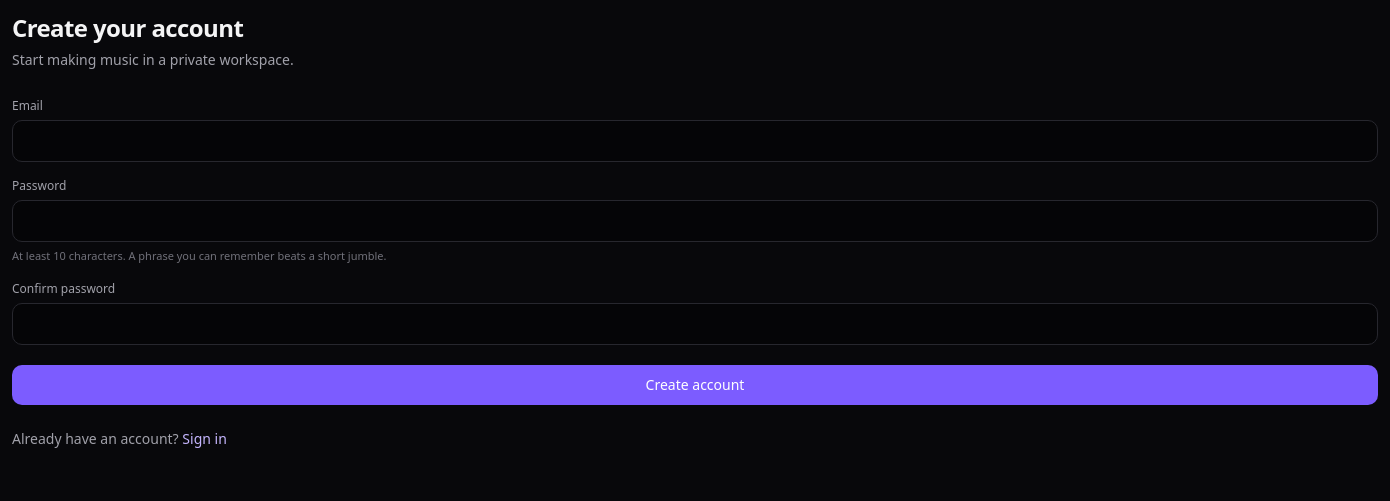
Test case: signup › catches a mistyped confirmation before the server does
Type "new@example.com" into the field labelled "Email" at coordinates (695, 141), box [12,120,1378,162]
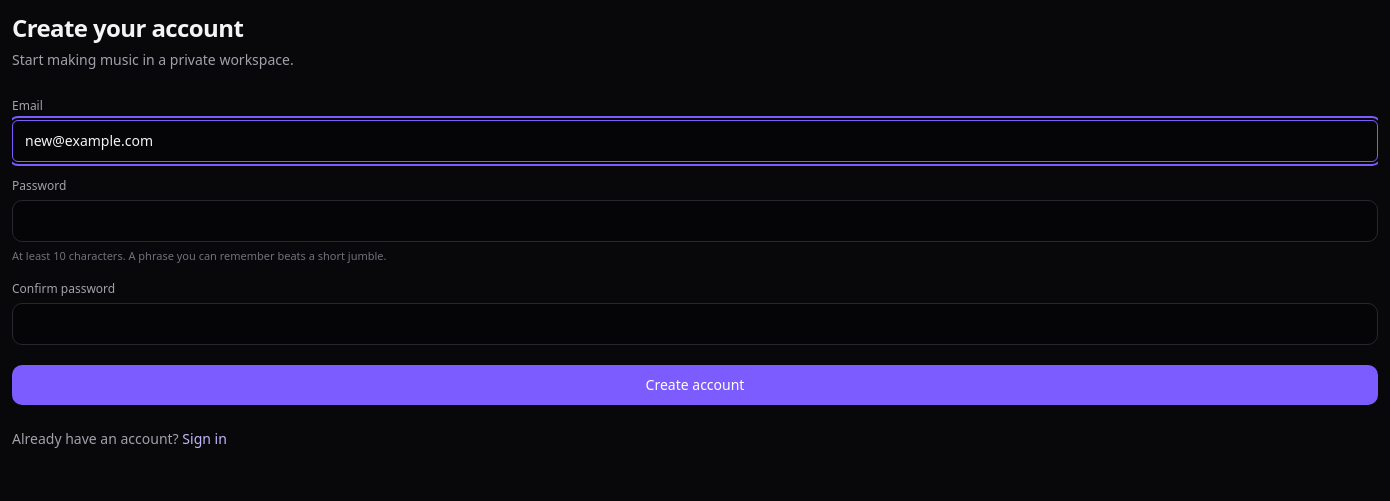
Type "correct horse battery" into the password field labelled "Password" at coordinates (695, 221), box [12,200,1378,242]
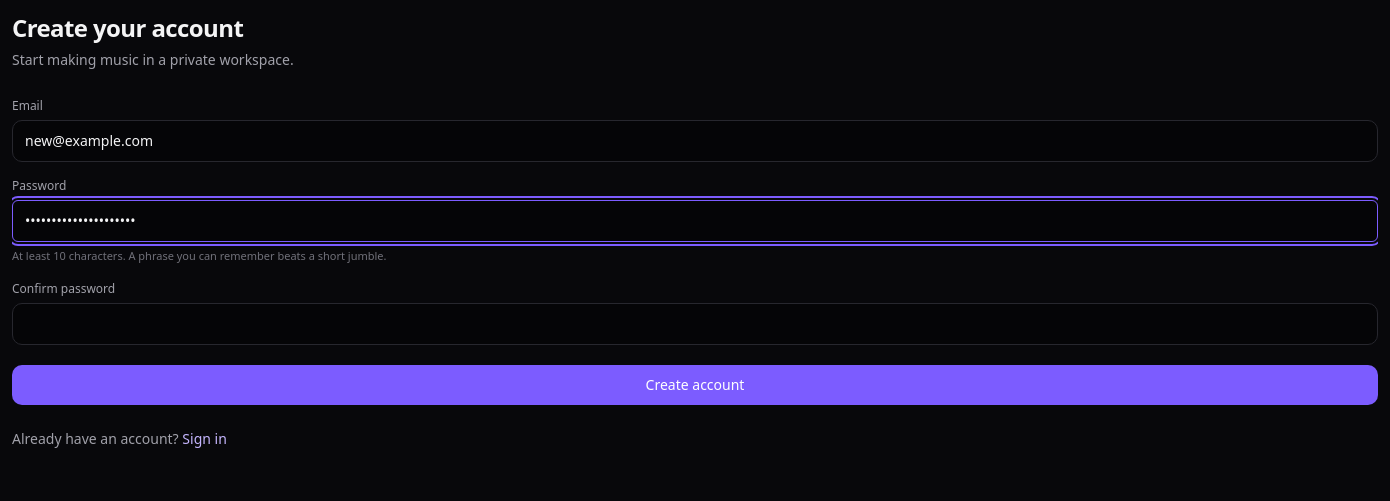
Type "correct horse batteries" into the password field labelled "Confirm password" at coordinates (695, 324), box [12,302,1378,344]
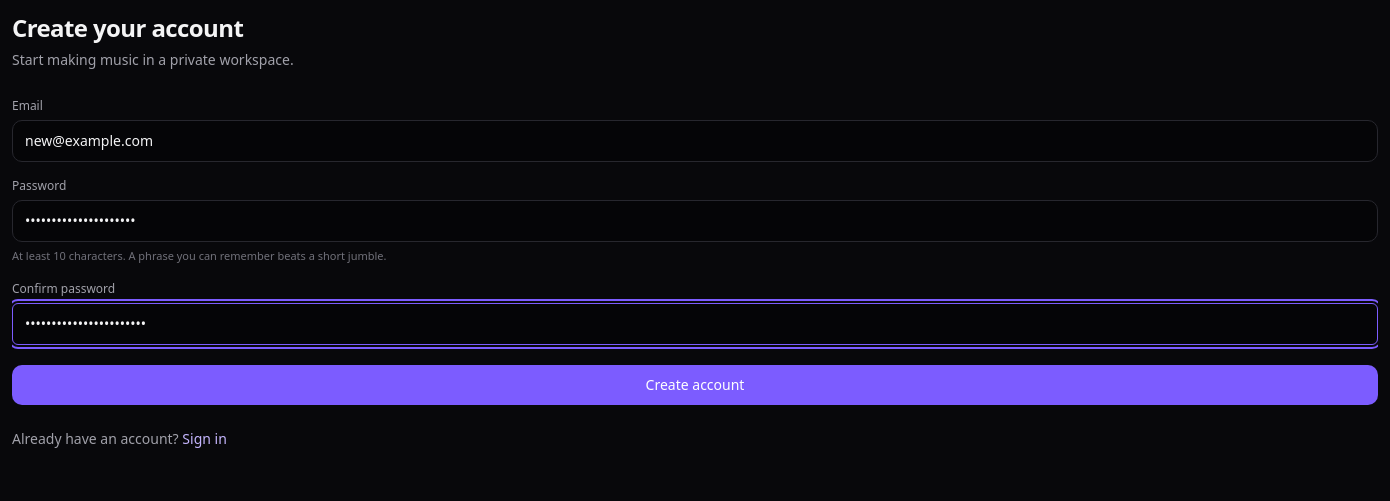
Click the button "Create account" at coordinates (695, 384), box [12,364,1378,404]
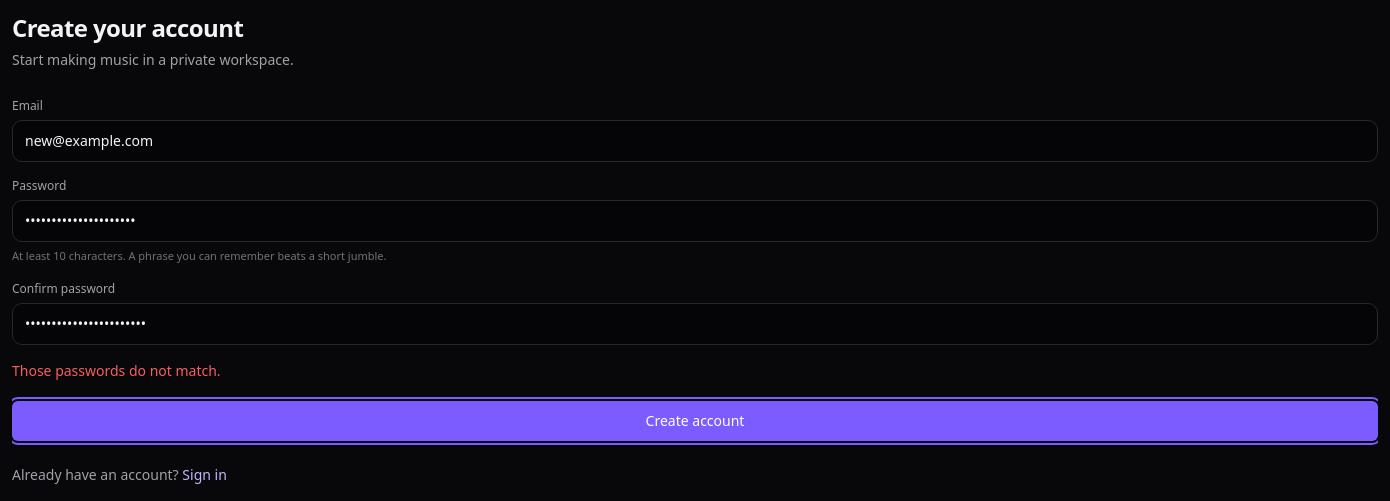
Result: the message shows "do not match" at [12,360,221,380]
